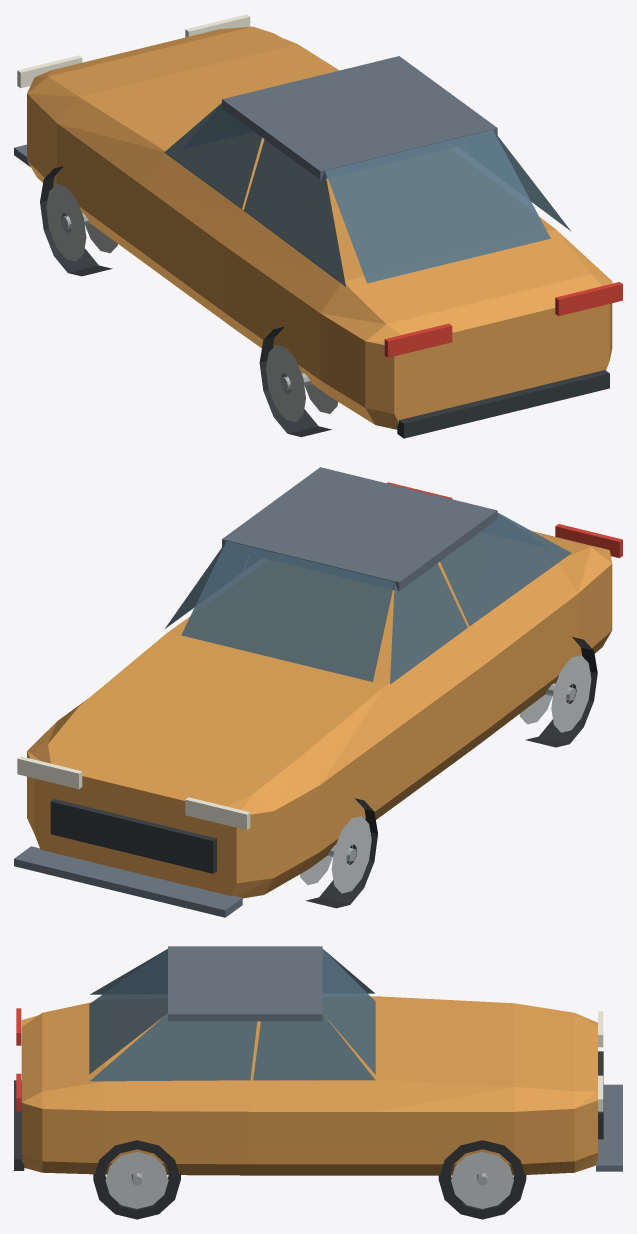
Rendered from valley_wagon_lod1.glb.
3 views of the same model, one above another, from view 1: azimuth 30°, elevation 25°; view 2: azimuth 150°, elevation 25°; view 3: azimuth 270°, elevation 25° (orthographic). The views are drawn at different scales.
Parts seen in each view (by area): view 1: Body_Shell, Rear_Windshield, Roof, Rear_Quarter_Glass_-1, Door_Glass_-1, Diffuser, Rim_RL, Rim_FL, Tire_RL, Tire_FL, Taillight_-1, Taillight_1 (+3 smaller); view 2: Body_Shell, Windshield, Roof, Rear_Quarter_Glass_-1, Grille, Door_Glass_-1, Splitter, Rim_RL, Rim_FL, Tire_RL, Tire_FL, Headlight_1 (+3 smaller); view 3: Body_Shell, Roof, Rear_Quarter_Glass_1, Door_Glass_1, Rear_Windshield, Windshield, Rim_FR, Rim_RR, Tire_FR, Tire_RR, Splitter, Diffuser.
Boxes of the visible parts, x1=… form: Body_Shell: x1=27, y1=26, x2=612, y2=429; Rear_Windshield: x1=325, y1=130, x2=550, y2=283; Roof: x1=222, y1=56, x2=497, y2=179; Rear_Quarter_Glass_-1: x1=243, y1=139, x2=345, y2=286; Door_Glass_-1: x1=164, y1=103, x2=261, y2=208; Diffuser: x1=397, y1=370, x2=609, y2=438; Rim_RL: x1=266, y1=345, x2=337, y2=422; Rim_FL: x1=46, y1=184, x2=117, y2=261; Tire_RL: x1=259, y1=326, x2=331, y2=437; Tire_FL: x1=40, y1=166, x2=112, y2=276; Taillight_-1: x1=384, y1=323, x2=452, y2=357; Taillight_1: x1=555, y1=282, x2=622, y2=316; Body_Shell: x1=27, y1=531, x2=612, y2=898; Windshield: x1=181, y1=541, x2=394, y2=681; Roof: x1=222, y1=467, x2=497, y2=591; Rear_Quarter_Glass_-1: x1=440, y1=513, x2=571, y2=626; Grille: x1=50, y1=799, x2=216, y2=873; Door_Glass_-1: x1=390, y1=563, x2=467, y2=684; Splitter: x1=14, y1=846, x2=242, y2=917; Rim_RL: x1=519, y1=655, x2=591, y2=732; Rim_FL: x1=300, y1=816, x2=371, y2=893; Tire_RL: x1=525, y1=637, x2=597, y2=747; Tire_FL: x1=305, y1=798, x2=377, y2=908; Headlight_1: x1=17, y1=756, x2=82, y2=789; Body_Shell: x1=21, y1=996, x2=597, y2=1175; Roof: x1=168, y1=946, x2=322, y2=1021; Rear_Quarter_Glass_1: x1=90, y1=1013, x2=257, y2=1081; Door_Glass_1: x1=253, y1=1013, x2=374, y2=1080; Rear_Windshield: x1=89, y1=949, x2=167, y2=1074; Windshield: x1=322, y1=949, x2=375, y2=1074; Rim_FR: x1=451, y1=1152, x2=513, y2=1208; Rim_RR: x1=105, y1=1152, x2=168, y2=1208; Tire_FR: x1=438, y1=1140, x2=526, y2=1219; Tire_RR: x1=93, y1=1140, x2=180, y2=1219; Splitter: x1=596, y1=1084, x2=622, y2=1171; Diffuser: x1=14, y1=1080, x2=24, y2=1170.
Size of the model in its own units: 2.03 by 1.58 by 4.73.
